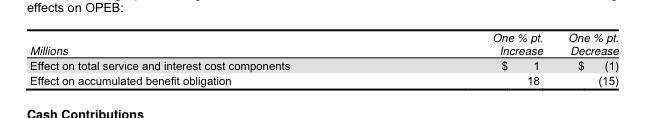table: (29, 28, 617, 86)
table column: (29, 28, 390, 86), (390, 28, 554, 86), (554, 28, 617, 86)
table column header: (29, 28, 617, 57)
table row: (29, 28, 617, 57), (29, 57, 617, 72), (29, 72, 617, 86)
